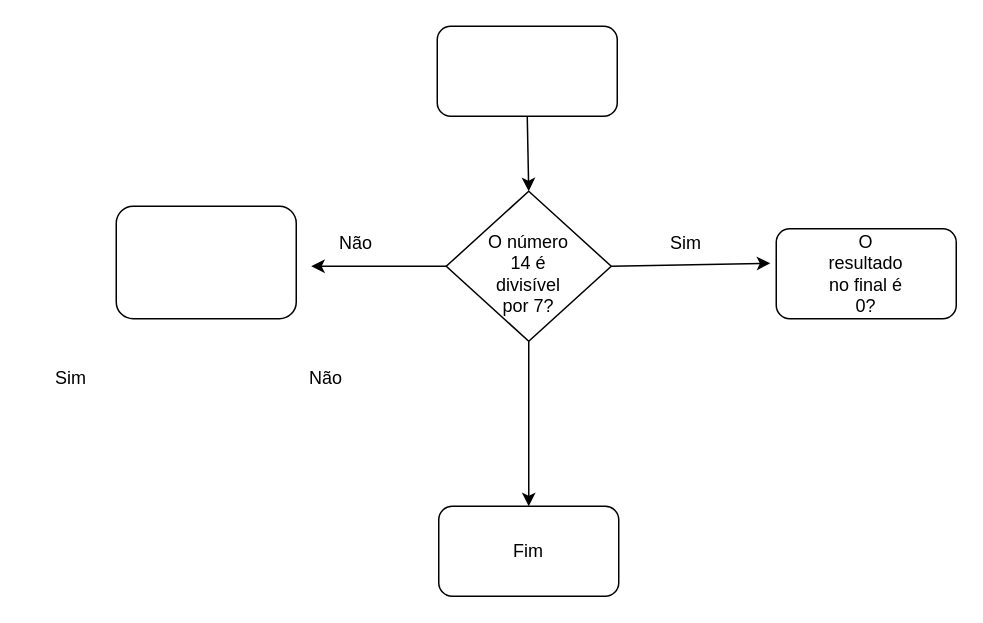
Some shapes in this 983 by 623 pixel diagram are drawn without their labels. The shapes that lost their labels are listed below. From the top down, each one's centre as x and y in pixels, then its label:
At pixel 526 70: "Inicio".
At pixel 205 262: "O resultado é uma dízima periódica?".
